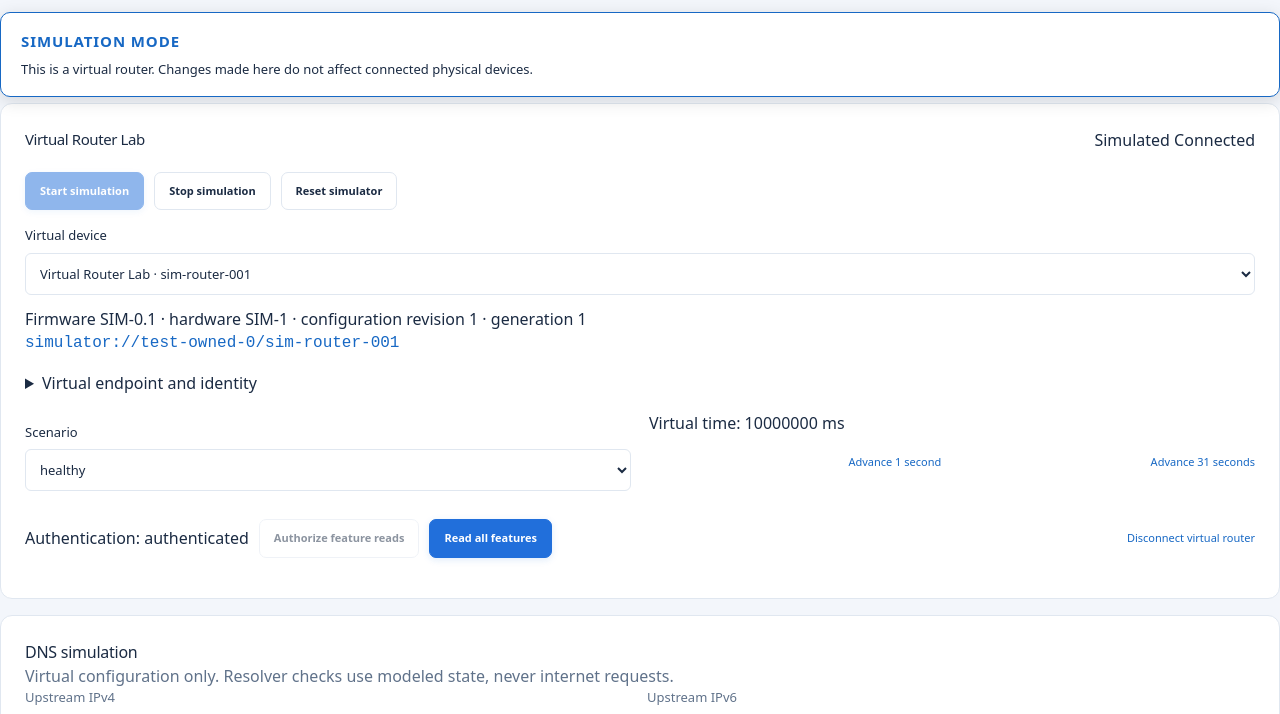
Scenario: shows typed timeouts and refreshes the actual disconnected status
The image size is (1280, 714).
Click the button "Read all features" at [491, 538], box [429, 519, 552, 558]
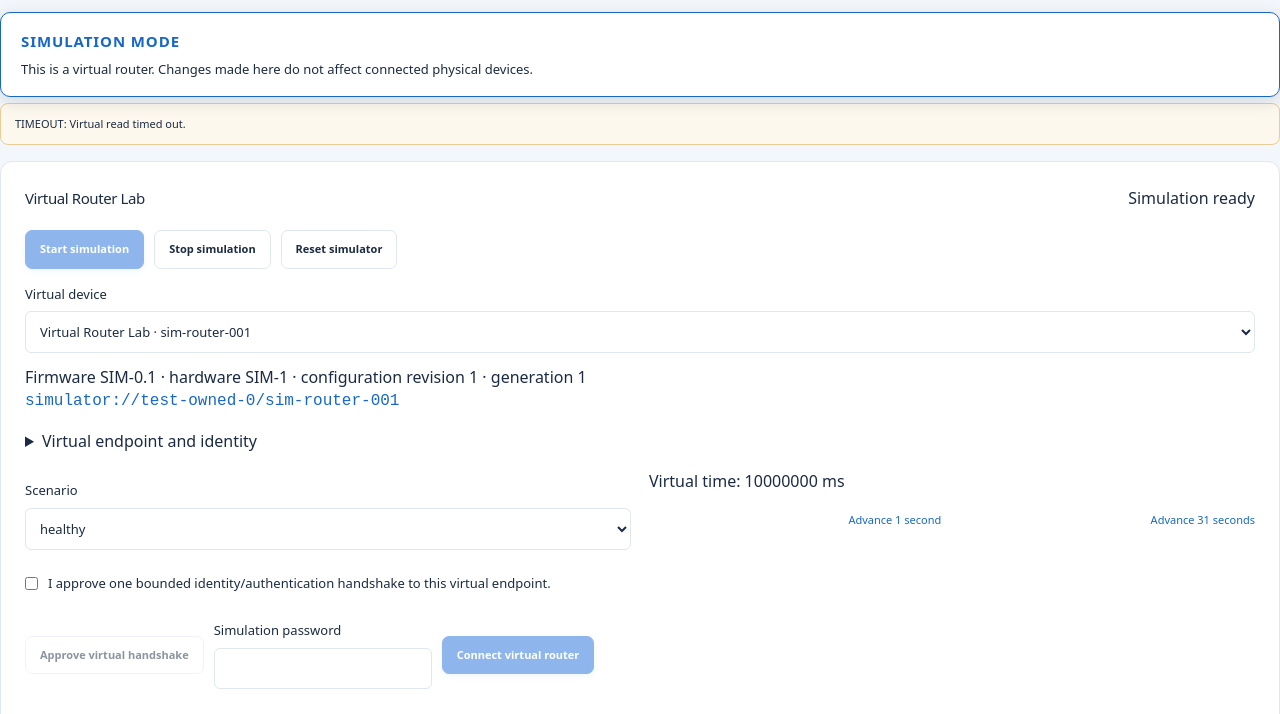
Expected: the dropdown named "Simulation scenario" is enabled, [25, 508, 631, 550]
Expected: the message reads "TIMEOUT: Virtual read timed out.", [15, 116, 186, 130]
